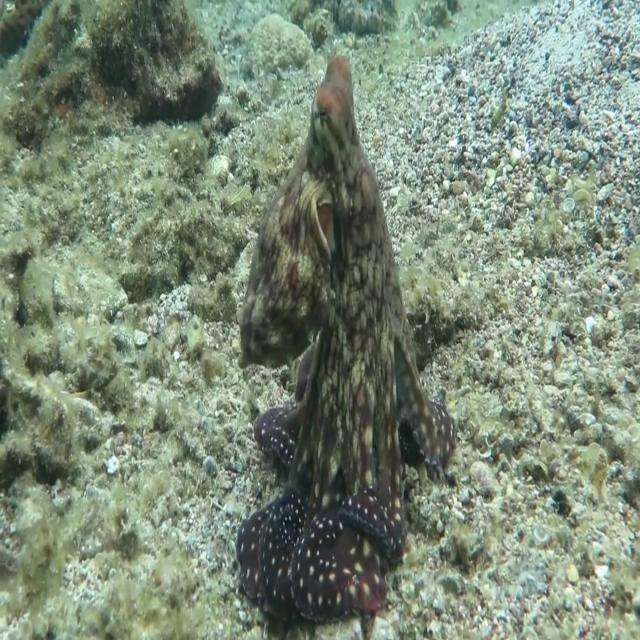octopus: (230, 46, 464, 640)
